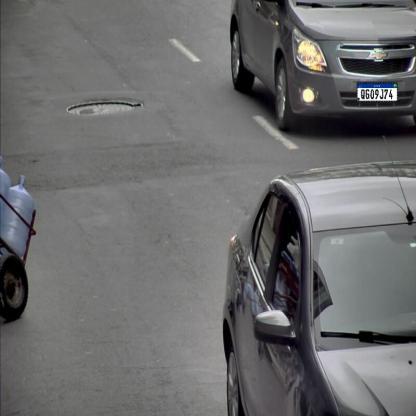PlacaM: (357, 82, 398, 102)
